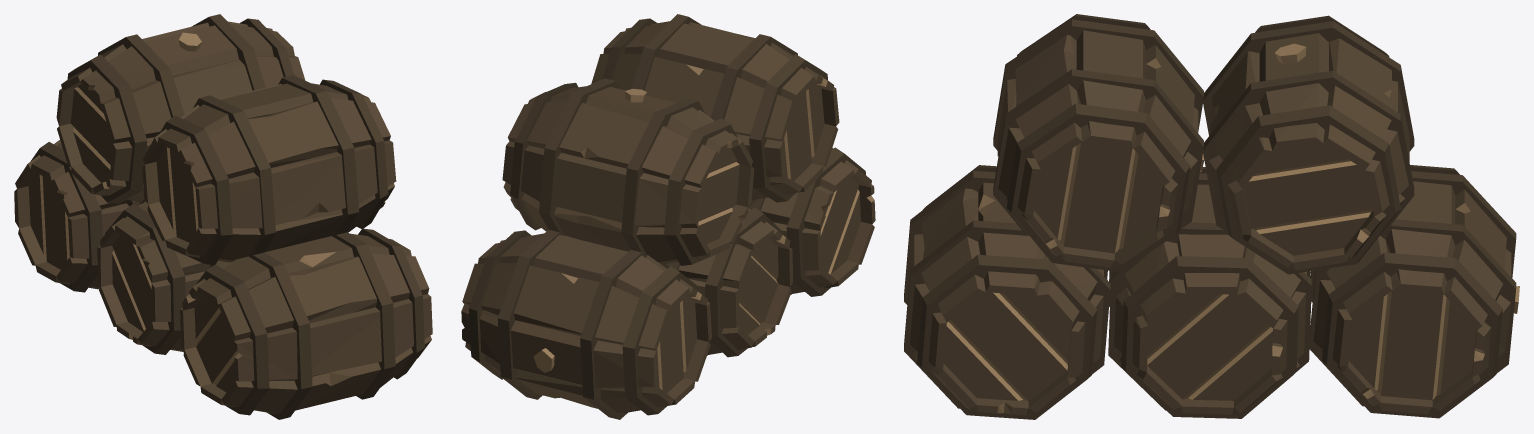
File: SM_Prop_Barrel_02.fbx
The picture shows the model from 3 angles, left to right: view 1: azimuth 30°, elevation 25°; view 2: azimuth 150°, elevation 25°; view 3: azimuth 270°, elevation 25°; orthographic projection. The views are drawn at different scales.
Parts seen in each view (by area): view 1: SM_Prop_Barrel_02; view 2: SM_Prop_Barrel_02; view 3: SM_Prop_Barrel_02.
Boxes of the visible parts, x1,y1,x2,y2 form: SM_Prop_Barrel_02: (14,14,432,419); SM_Prop_Barrel_02: (461,14,875,419); SM_Prop_Barrel_02: (904,14,1519,419).
Bounding box in the file's own units: 0.0117 × 0.0159 × 0.0263.
1 material, 1 textured.
